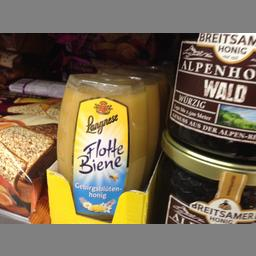honey: (52, 68, 148, 220)
